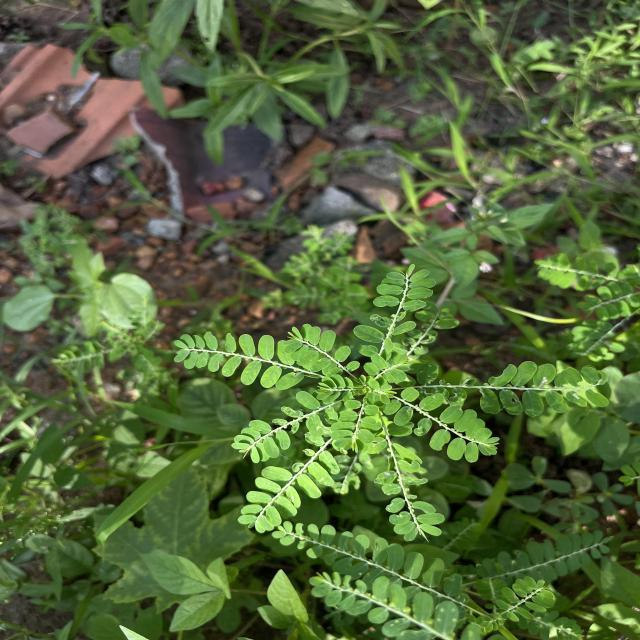Phyllanthus niruri: (381, 386, 503, 462), (230, 388, 342, 464), (477, 358, 612, 416), (358, 262, 436, 362), (172, 329, 295, 392), (374, 446, 446, 543), (276, 320, 362, 380)
